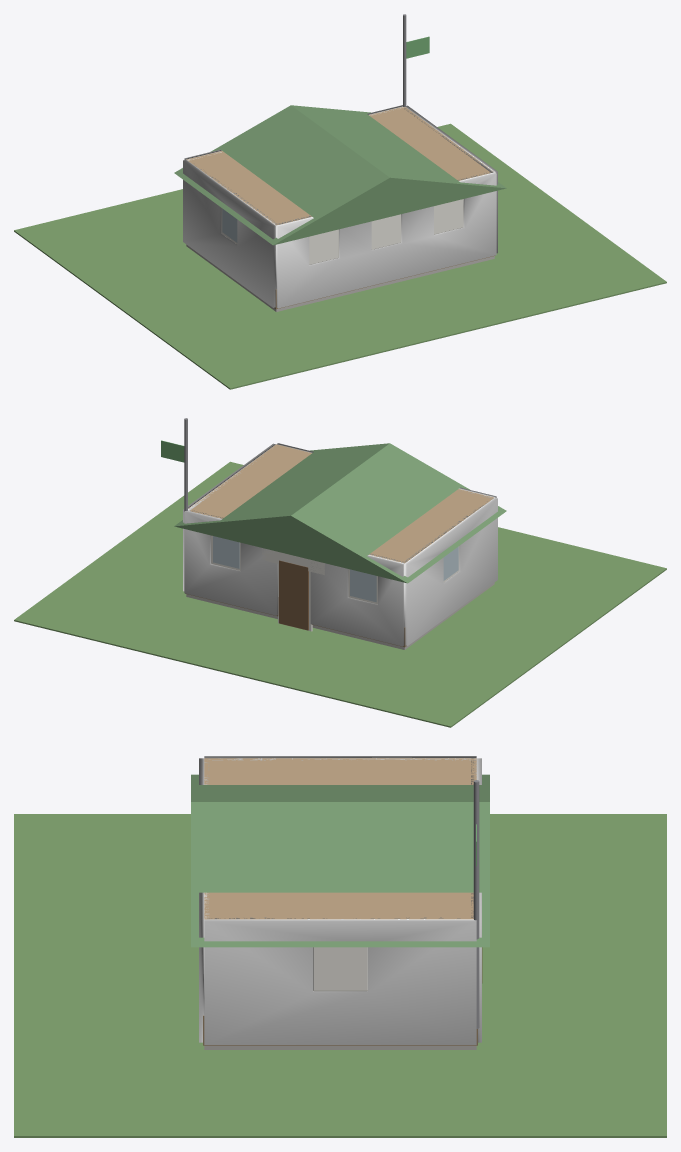
Rendered from ranger_station.glb.
3 views of the same model, one above another, from view 1: azimuth 30°, elevation 25°; view 2: azimuth 150°, elevation 25°; view 3: azimuth 270°, elevation 25° (orthographic). The views are drawn at different scales.
Parts seen in each view (by area): view 1: ground, roof, back_wall, left_wall, body, frame (×3), foundation, right_wall; view 2: ground, roof, front_wall, left_wall, body, panel, frame (×2), glass (×2), foundation, sign, right_wall; view 3: ground, roof, right_wall, body, frame, foundation, pole, back_wall, left_wall, front_wall.
Boxes of the visible parts, box(x1,y1,x2,y2) form: ground: box(14, 123, 666, 389); roof: box(174, 105, 506, 245); back_wall: box(275, 172, 496, 308); left_wall: box(183, 160, 277, 307); body: box(186, 107, 493, 225); frame (×3): box(309, 199, 463, 264); foundation: box(186, 244, 494, 311); right_wall: box(404, 105, 497, 253); ground: box(14, 461, 666, 727); roof: box(174, 443, 506, 583); front_wall: box(184, 510, 404, 646); left_wall: box(403, 498, 497, 645); body: box(189, 444, 493, 562); panel: box(279, 560, 308, 630); frame (×2): box(211, 535, 377, 604); glass (×2): box(213, 536, 376, 601); foundation: box(186, 582, 494, 649); sign: box(262, 548, 324, 575); right_wall: box(183, 443, 275, 591); ground: box(14, 814, 666, 1137); roof: box(191, 774, 489, 947); right_wall: box(204, 917, 476, 1044); body: box(204, 758, 476, 919); frame: box(313, 947, 367, 991); foundation: box(204, 1045, 476, 1049); pole: box(473, 780, 479, 1028); back_wall: box(199, 758, 209, 1042); left_wall: box(204, 756, 476, 760); front_wall: box(471, 758, 481, 1042).
Size of the model in its own units: 14 by 5.6 by 12.
